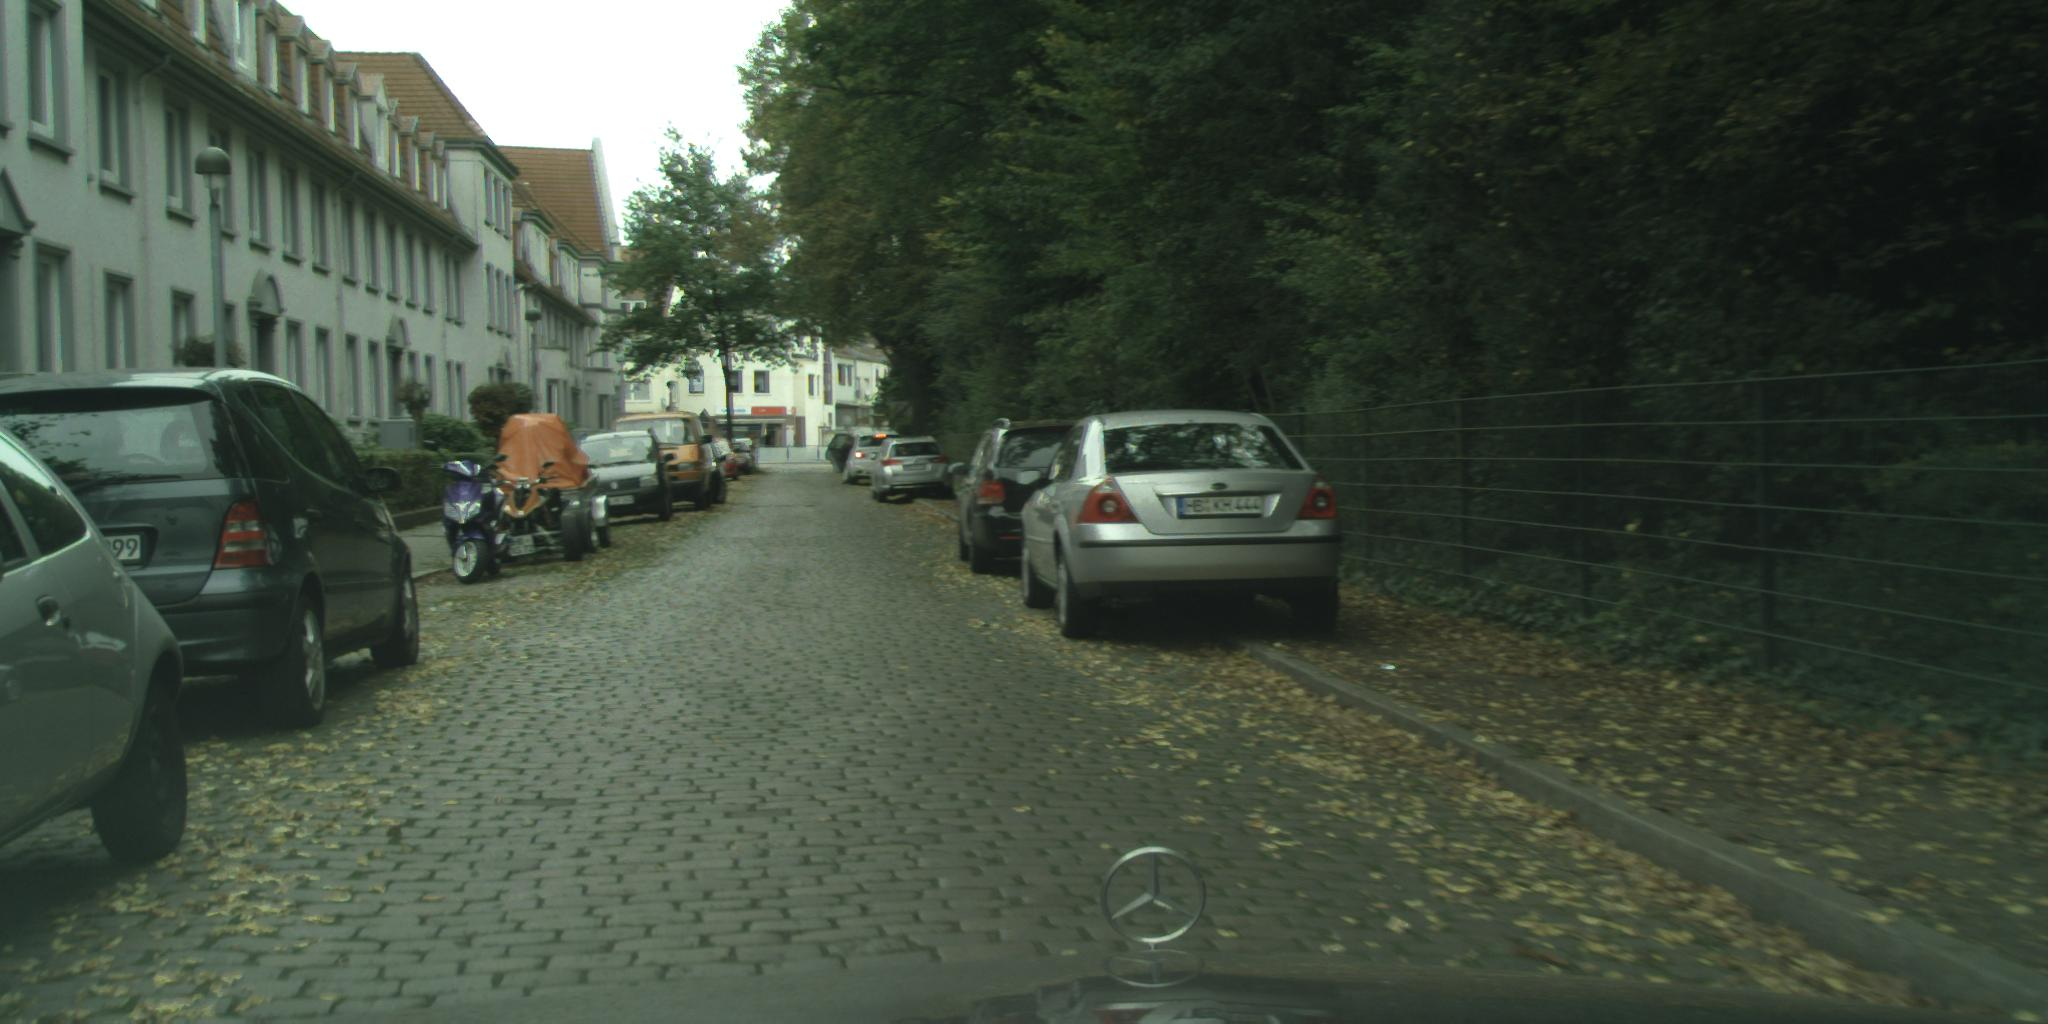car: (1, 368, 421, 731), (1, 421, 188, 867), (1017, 410, 1341, 641), (947, 419, 1087, 576), (611, 411, 717, 512), (579, 431, 677, 522), (870, 435, 956, 504), (825, 428, 901, 485), (568, 428, 618, 452)
motorcycle: (422, 440, 516, 588)
